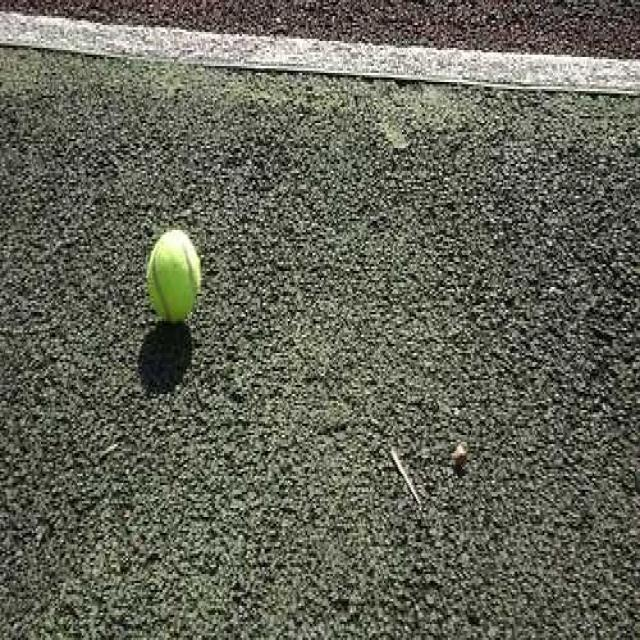Tennis_Ball: (148, 226, 198, 325)
